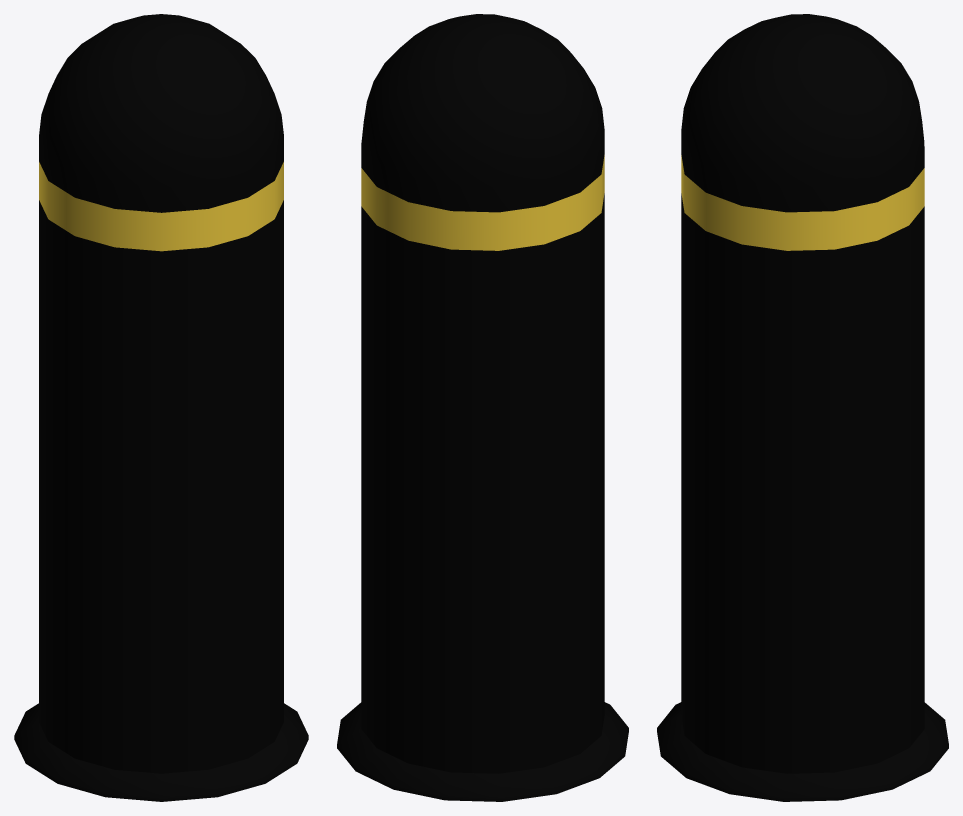
3 renders of one model, left to right at view 1: azimuth 30°, elevation 25°; view 2: azimuth 150°, elevation 25°; view 3: azimuth 270°, elevation 25°, orthographic.
Visible parts, largest first — view 1: Joint_0_Object_2, Joint_0_Object_1, Joint_0_Object_0; view 2: Joint_0_Object_2, Joint_0_Object_1, Joint_0_Object_0; view 3: Joint_0_Object_2, Joint_0_Object_1, Joint_0_Object_0.
Part boxes in pixels (x1,y1,x2,y2): Joint_0_Object_2: [39, 14, 283, 773]; Joint_0_Object_1: [14, 703, 308, 801]; Joint_0_Object_0: [39, 162, 283, 251]; Joint_0_Object_2: [361, 14, 604, 773]; Joint_0_Object_1: [337, 702, 628, 801]; Joint_0_Object_0: [361, 155, 604, 250]; Joint_0_Object_2: [681, 14, 924, 773]; Joint_0_Object_1: [657, 702, 948, 801]; Joint_0_Object_0: [681, 155, 924, 250].
Size of the model in its own units: 296 by 800 by 296.
Materials: 3 (2 with a texture image).
